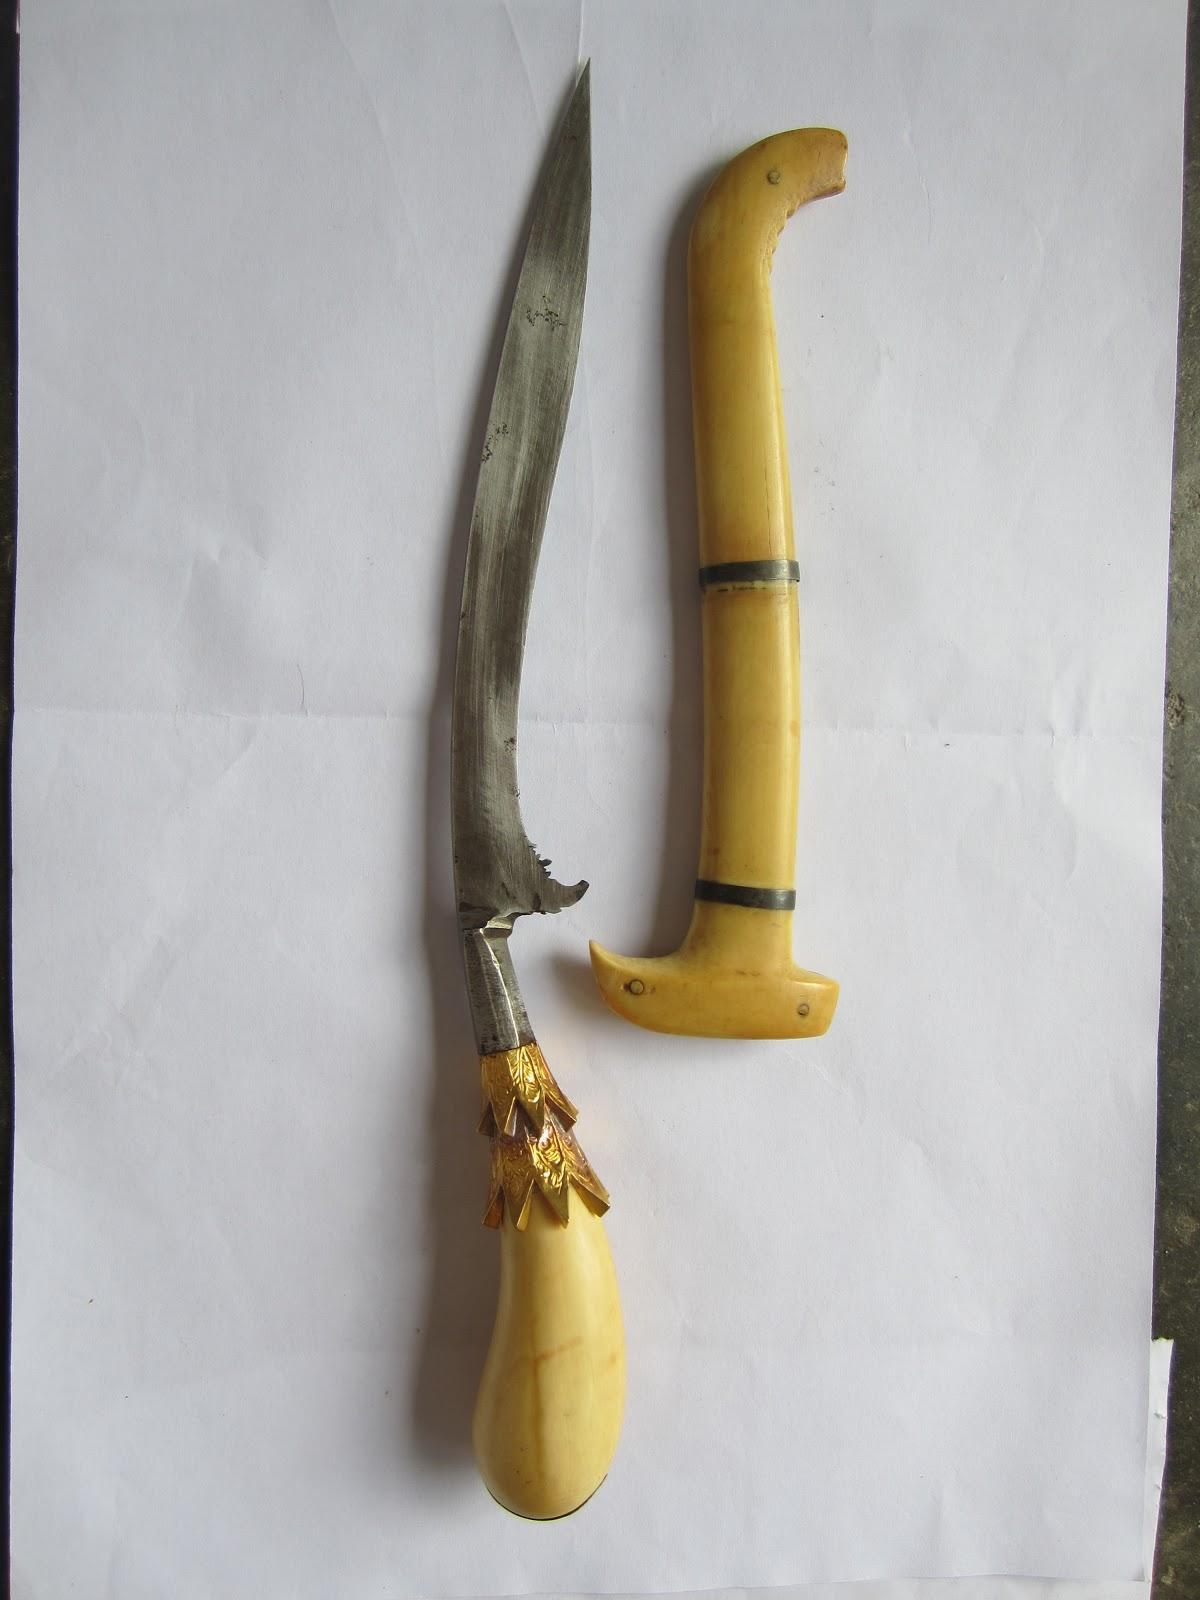facao: (450, 64, 625, 1519)
